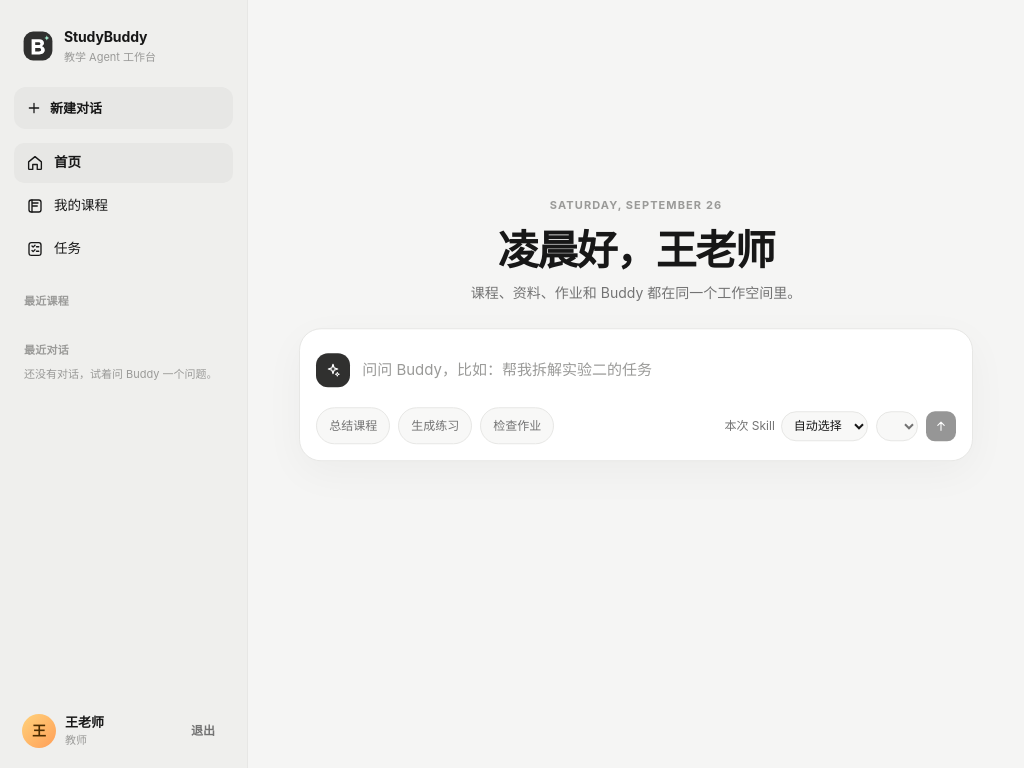
Test: 首页发送第一条消息 › 没有课程上下文时给出可读错误，而不是静默失败
Type "在吗" into the field named "向 Buddy 提问" at (659, 370), box x1=362 y1=345 x2=956 y2=395
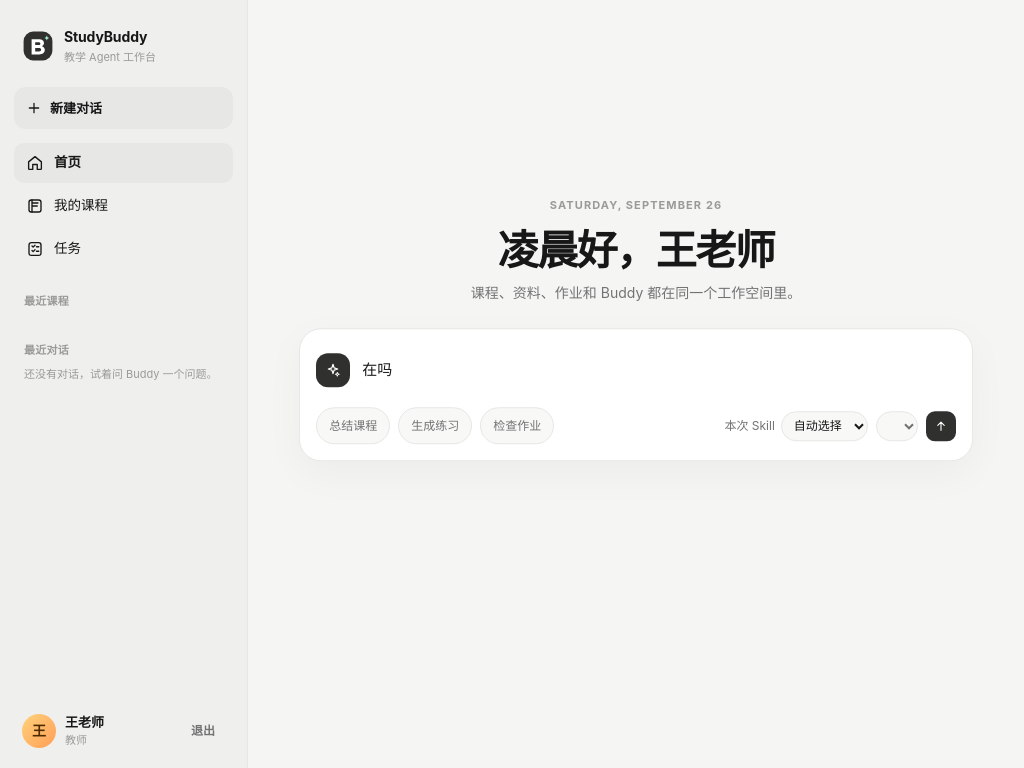
Click the button named "发送" at (941, 426), box x1=926 y1=411 x2=956 y2=441
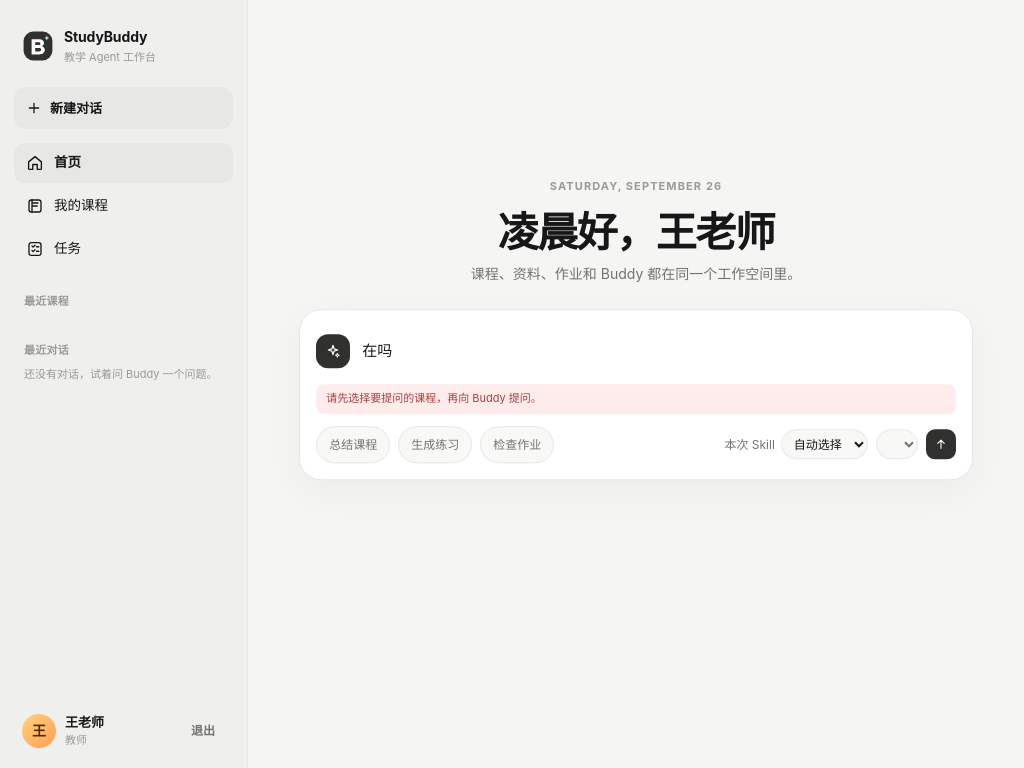
Now the text "请先选择要提问的课程，再向 Buddy 提问。" is shown, box x1=316 y1=384 x2=956 y2=414
